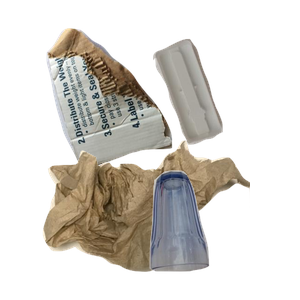cardboard: (44, 26, 209, 186)
glass: (147, 168, 300, 300)
plastic: (150, 36, 300, 173)
trash: (40, 138, 280, 300)
